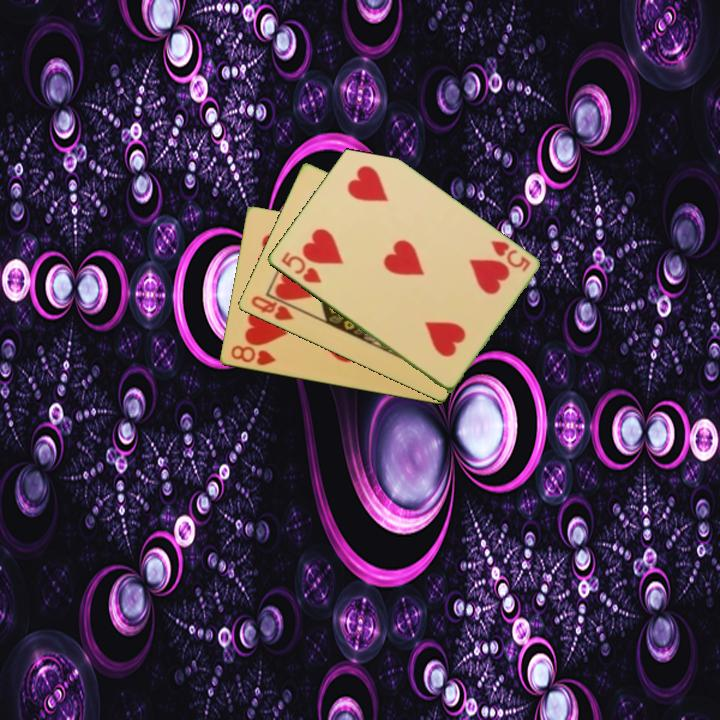5h: (277, 248, 324, 286), (487, 237, 533, 275)
8h: (227, 342, 278, 369)
Qh: (247, 292, 297, 324)
